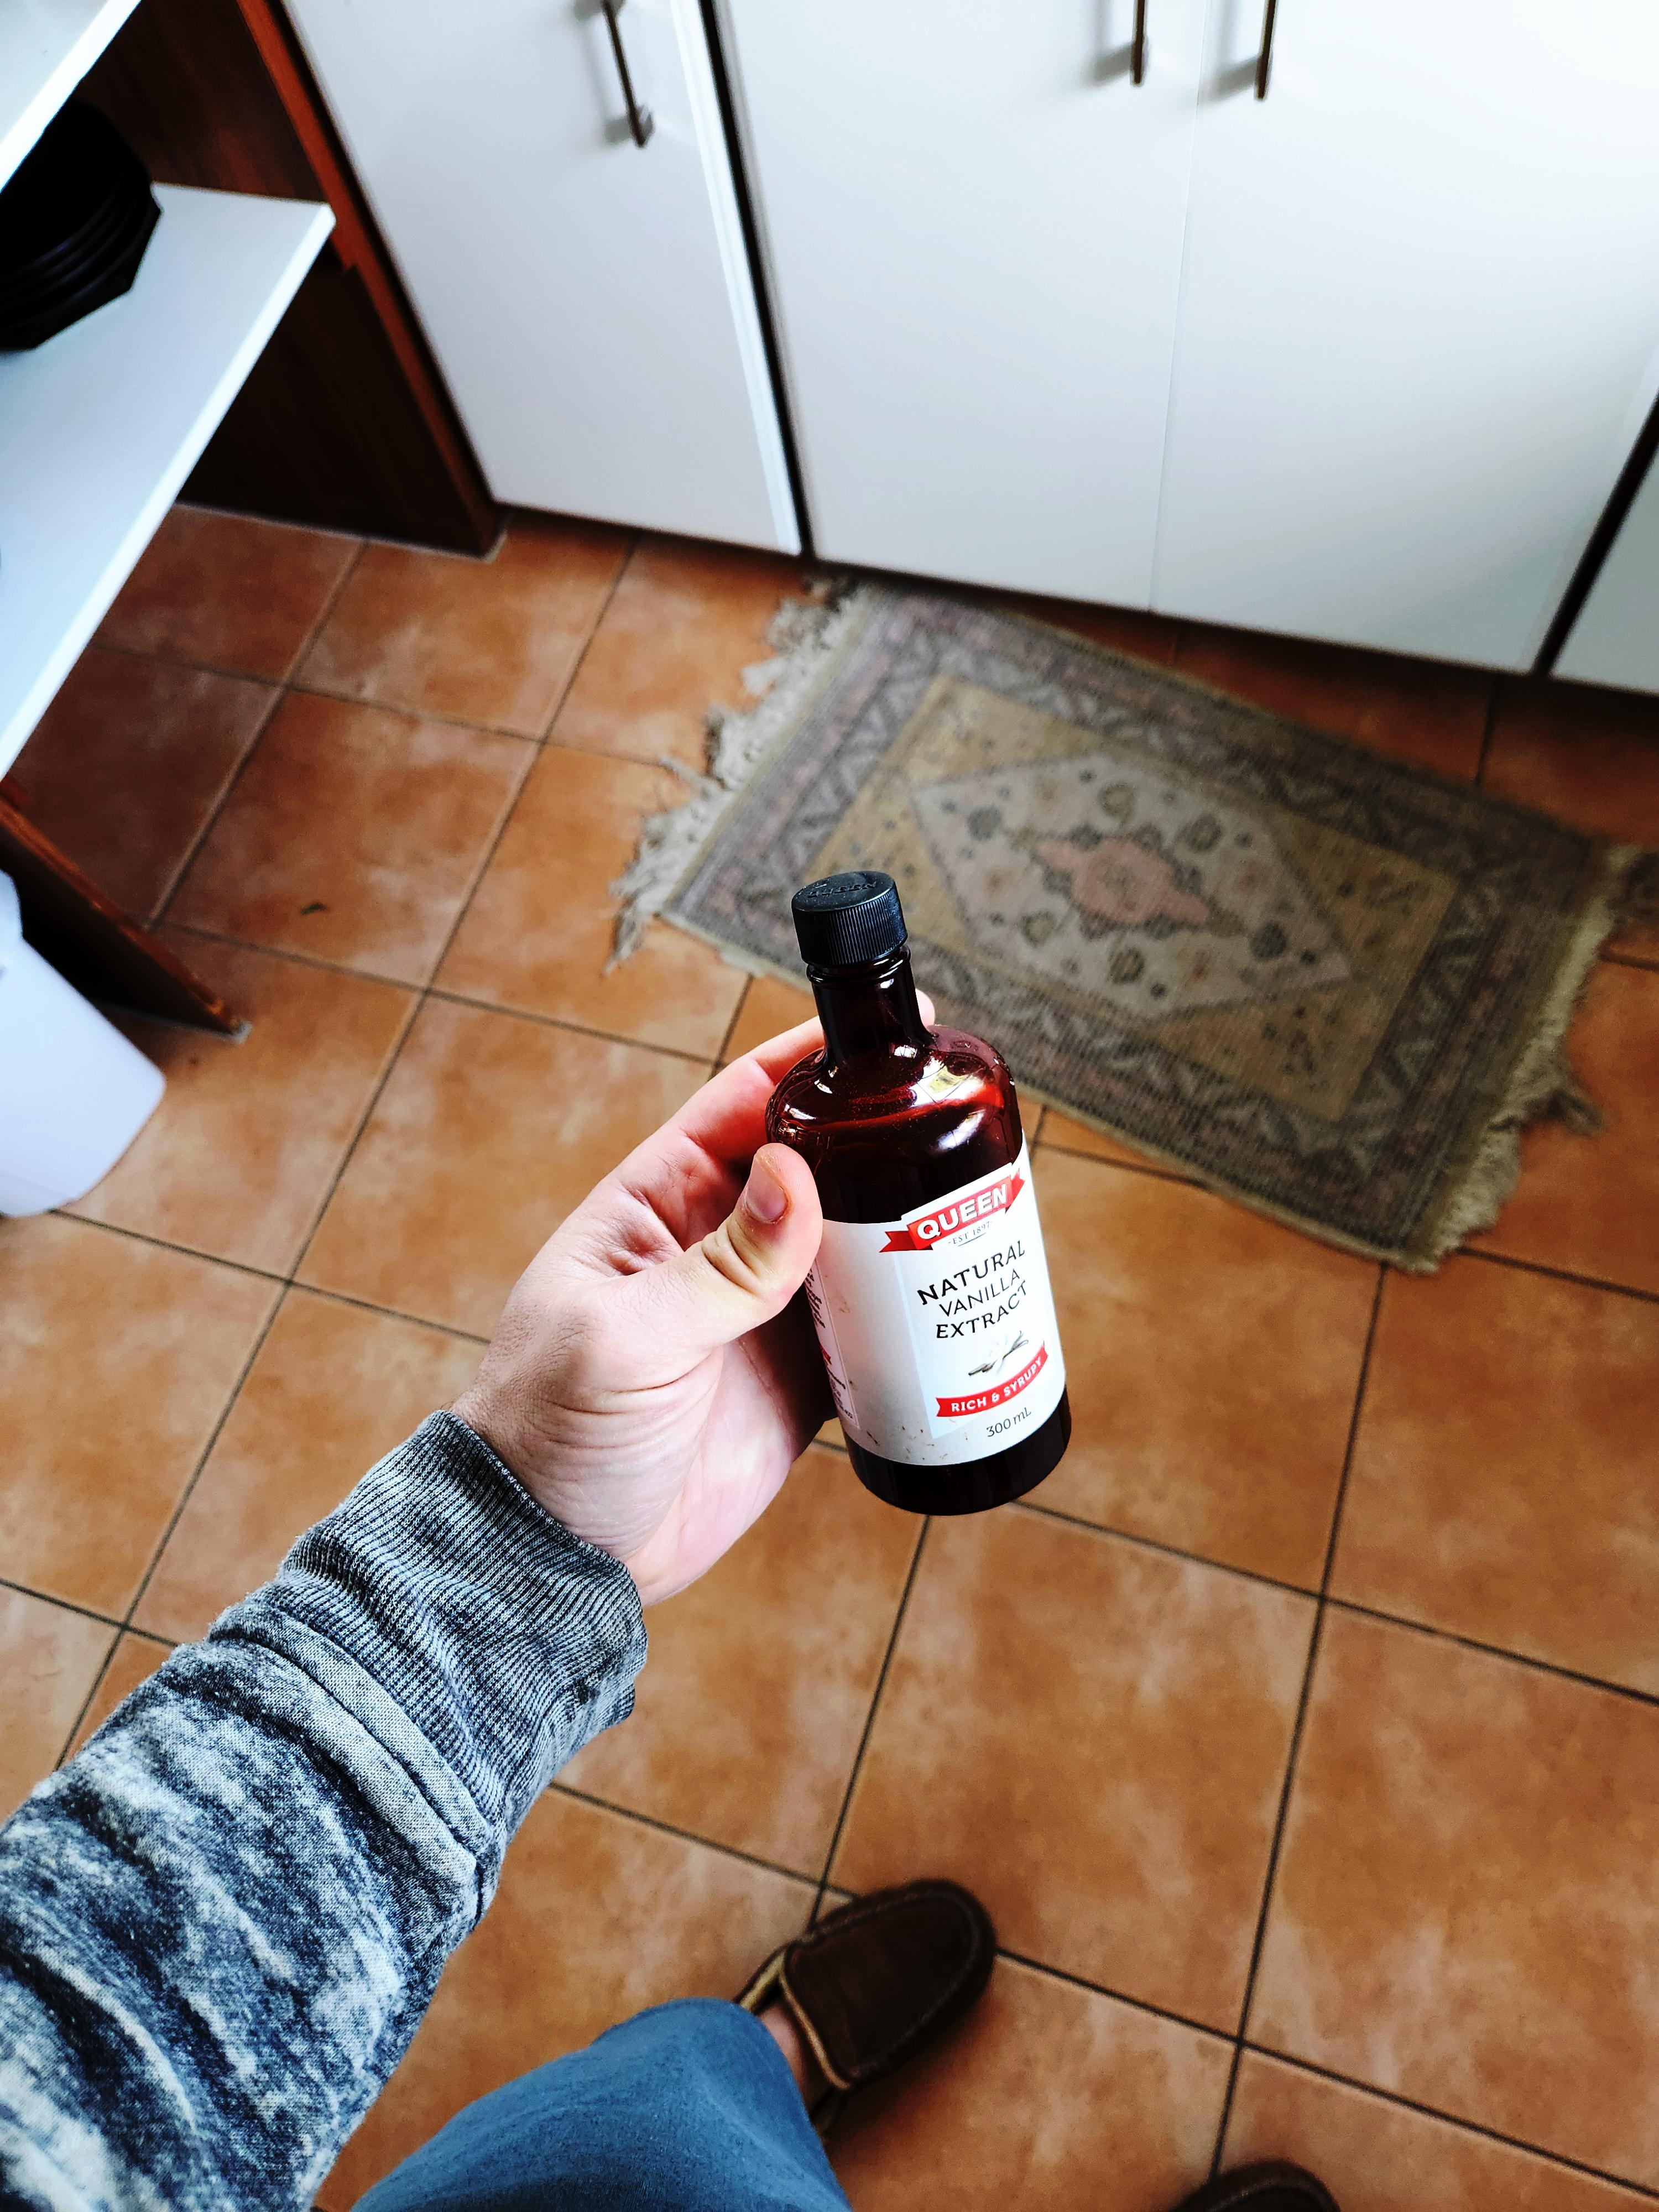vanilla: (570, 1158, 805, 2026)
